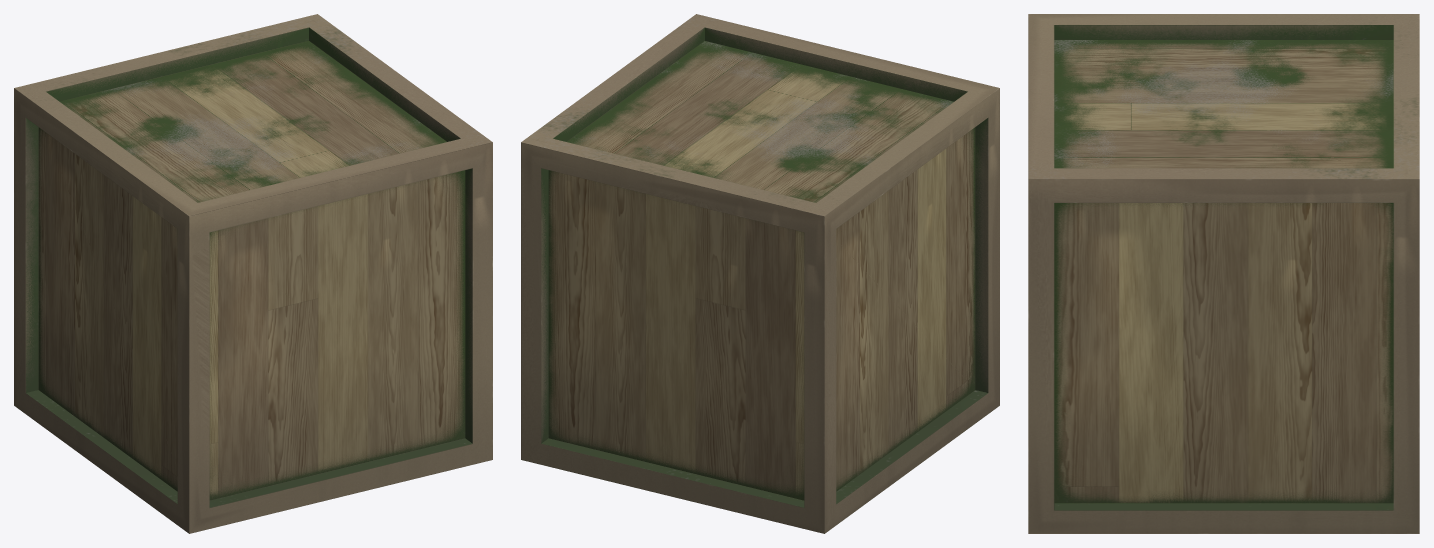
File: WoodCrate.fbx
3 renders of one model, left to right at view 1: azimuth 30°, elevation 25°; view 2: azimuth 150°, elevation 25°; view 3: azimuth 270°, elevation 25°, orthographic. The views are drawn at different scales.
Parts seen in each view (by area): view 1: WCBase; view 2: WCBase; view 3: WCBase.
Boxes of the visible parts, <box> form: WCBase: <box>14,14,492,533</box>; WCBase: <box>521,14,999,533</box>; WCBase: <box>1028,14,1419,533</box>.
Size of the model in its own units: 200 by 200 by 200.
2 materials, 2 textured.
